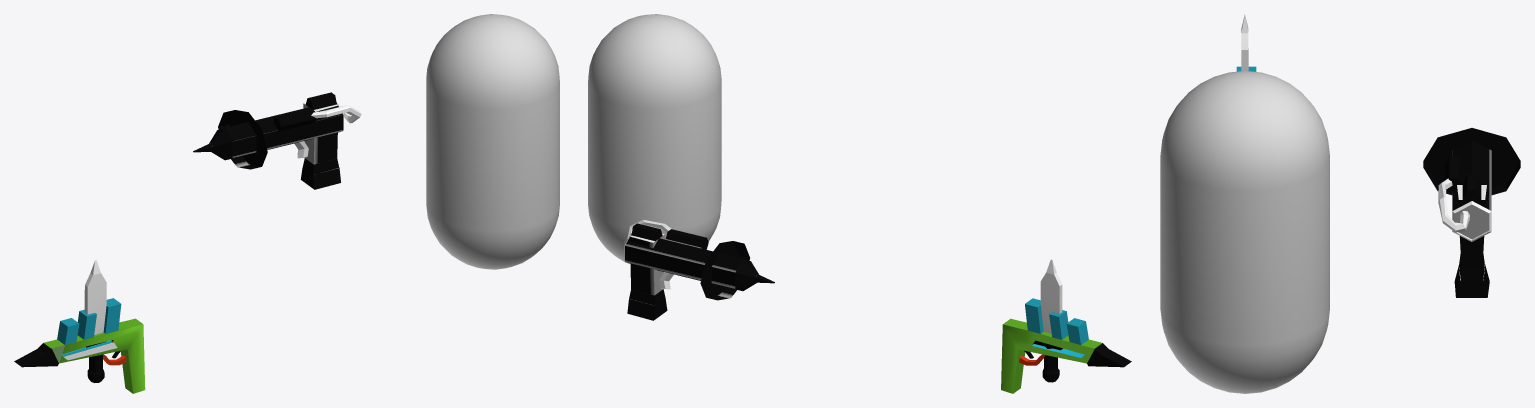
The model's file is arma tinta final.fbx.
3 renders of one model, left to right at view 1: azimuth 30°, elevation 25°; view 2: azimuth 150°, elevation 25°; view 3: azimuth 270°, elevation 25°, orthographic. The views are drawn at different scales.
Visible parts, largest first — view 1: player, Cube, Cube.001, Cubo; view 2: player, Cube, Cube.001, Cubo; view 3: player, Cube, Cubo.
Part boxes in pixels (left/top/right/bottom): player: left=426, top=14, right=559, bottom=269; Cube: left=193, top=92, right=361, bottom=189; Cube.001: left=14, top=298, right=145, bottom=393; Cubo: left=84, top=260, right=113, bottom=382; player: left=588, top=14, right=721, bottom=264; Cube: left=623, top=219, right=774, bottom=320; Cube.001: left=1001, top=298, right=1131, bottom=393; Cubo: left=1033, top=259, right=1062, bottom=382; player: left=1160, top=71, right=1329, bottom=393; Cube: left=1423, top=128, right=1520, bottom=297; Cubo: left=1241, top=14, right=1248, bottom=71.
Size of the model in its own units: 458 by 232 by 212.
